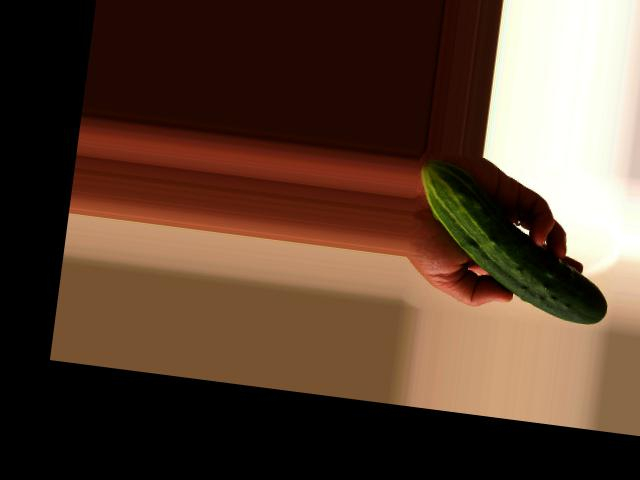cucumber: (406, 158, 623, 325)
